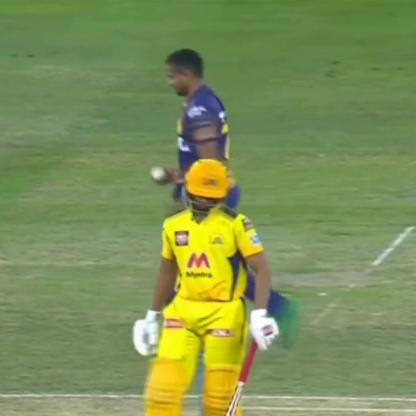ball: (144, 166, 166, 183)
